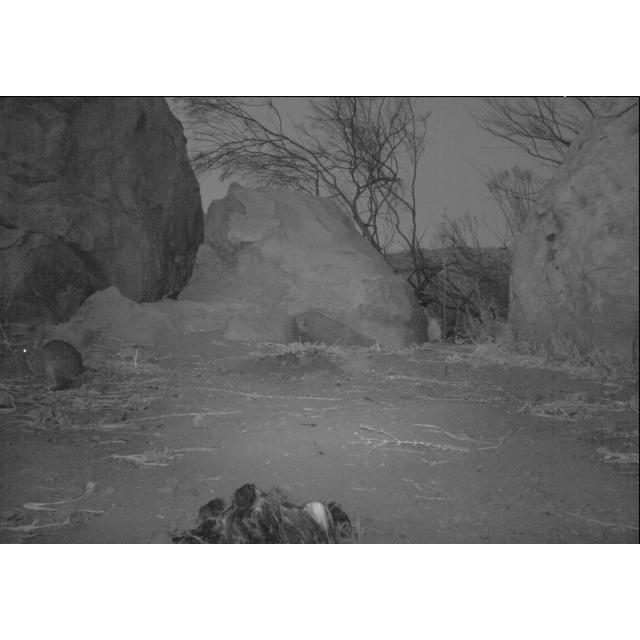animals: (19, 324, 90, 394)
